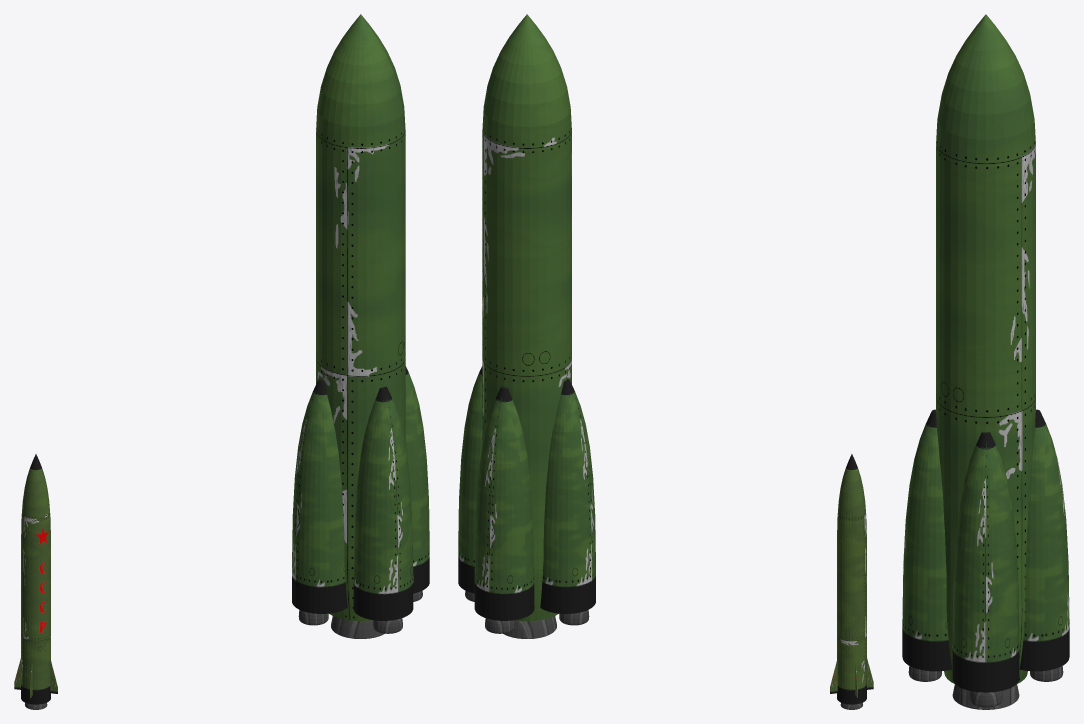
The model's file is missiles.obj.
3 views of the same model, side by side, from view 1: azimuth 30°, elevation 25°; view 2: azimuth 150°, elevation 25°; view 3: azimuth 270°, elevation 25° (orthographic). The views are drawn at different scales.
Visible parts, largest first — view 1: missile01_1, booster01_3, booster04_3, missile04_1, booster02_3, jet05_2; view 2: missile01_1, booster03_3, booster04_3, missile04_1, booster02_3, jet05_2; view 3: missile01_1, booster02_3, booster01_3, booster03_3, jet05_2, jet06_4, jet07_4, jet01_4.
Boxes of the visible parts, <box> form: missile01_1: <box>316,14,405,621</box>; booster01_3: <box>353,386,413,620</box>; booster04_3: <box>292,379,347,613</box>; missile04_1: <box>21,454,50,704</box>; booster02_3: <box>405,366,429,593</box>; jet05_2: <box>331,616,384,638</box>; missile01_1: <box>482,14,571,621</box>; booster03_3: <box>474,386,534,620</box>; booster04_3: <box>540,379,595,613</box>; missile04_1: <box>837,454,866,704</box>; booster02_3: <box>458,366,482,593</box>; jet05_2: <box>503,616,556,638</box>; missile01_1: <box>936,14,1035,684</box>; booster02_3: <box>952,432,1019,692</box>; booster01_3: <box>902,409,952,671</box>; booster03_3: <box>1019,409,1069,671</box>; jet05_2: <box>952,684,1019,709</box>; jet06_4: <box>969,691,1002,707</box>; jet07_4: <box>1030,666,1063,681</box>; jet01_4: <box>908,666,941,681</box>.
Size of the model in its own units: 3.11 by 4.51 by 0.9999.
Materials: 7 (5 with a texture image).
